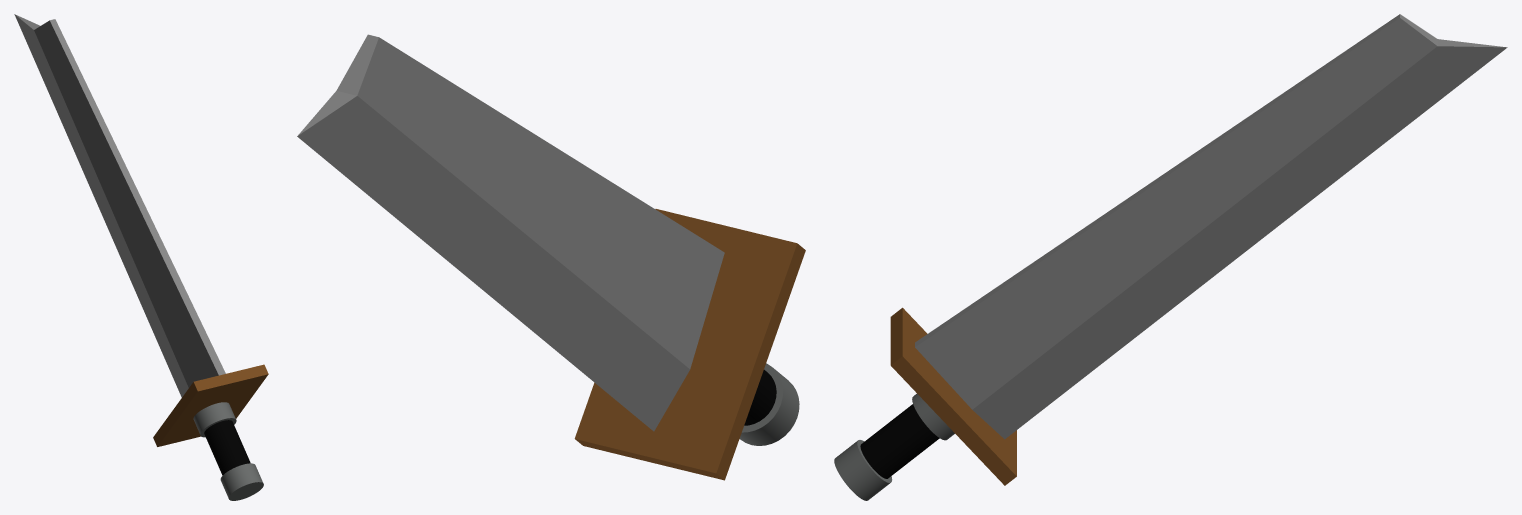
The model's file is Sword Prefab.fbx.
3 views of the same model, side by side, from view 1: azimuth 30°, elevation 25°; view 2: azimuth 150°, elevation 25°; view 3: azimuth 270°, elevation 25° (orthographic). The views are drawn at different scales.
Parts seen in each view (by area): view 1: Cylinder; view 2: Cylinder; view 3: Cylinder.
Part boxes in pixels (x1,y1,x2,y2): Cylinder: (14,14,268,500); Cylinder: (297,34,805,480); Cylinder: (834,14,1507,500).
Size of the model in its own units: 9.88 by 45.62 by 57.74.
